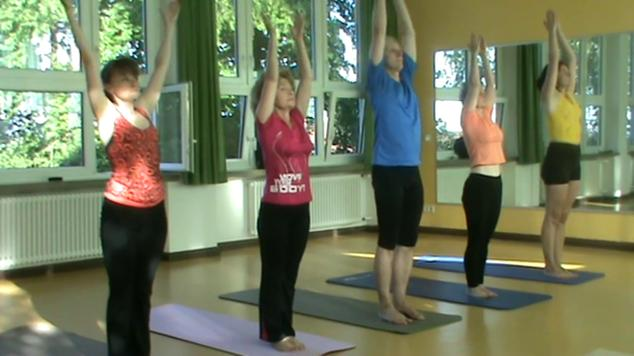hands_up: (515, 34, 597, 229)
stay: (358, 19, 427, 279), (248, 62, 314, 322)
